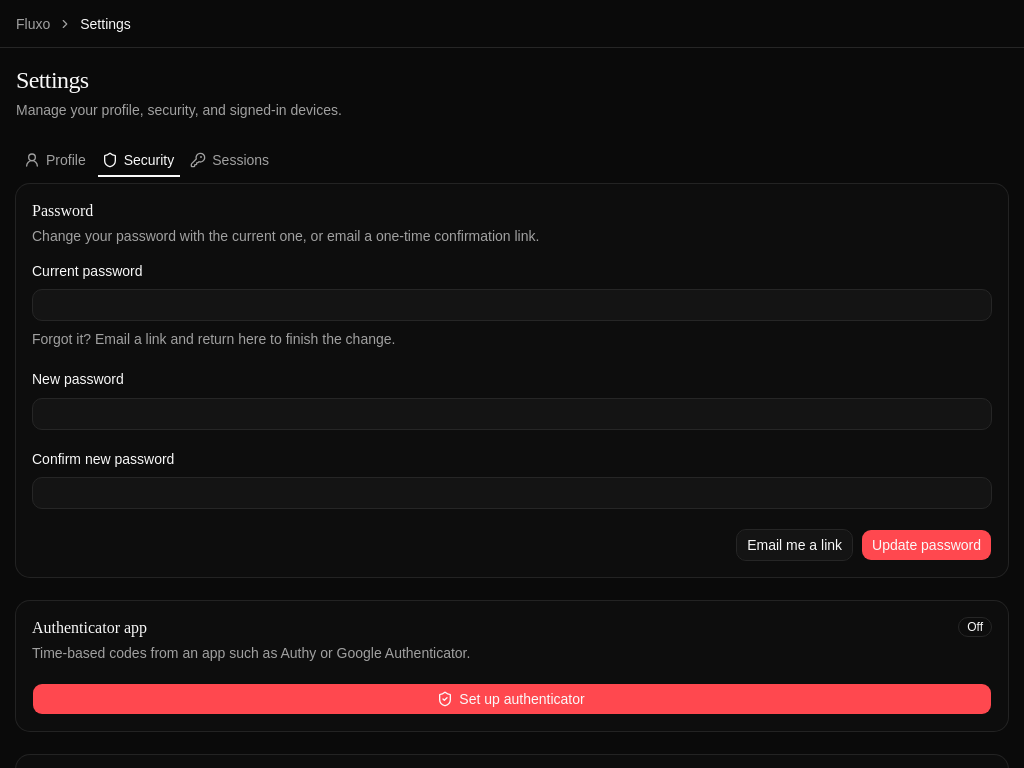
Settings page › shows MFA backup codes after enable
Step 1. Click the button "Set up authenticator" → (512, 699), box top-left (32, 683), bottom-right (992, 715)
(page scrolled)
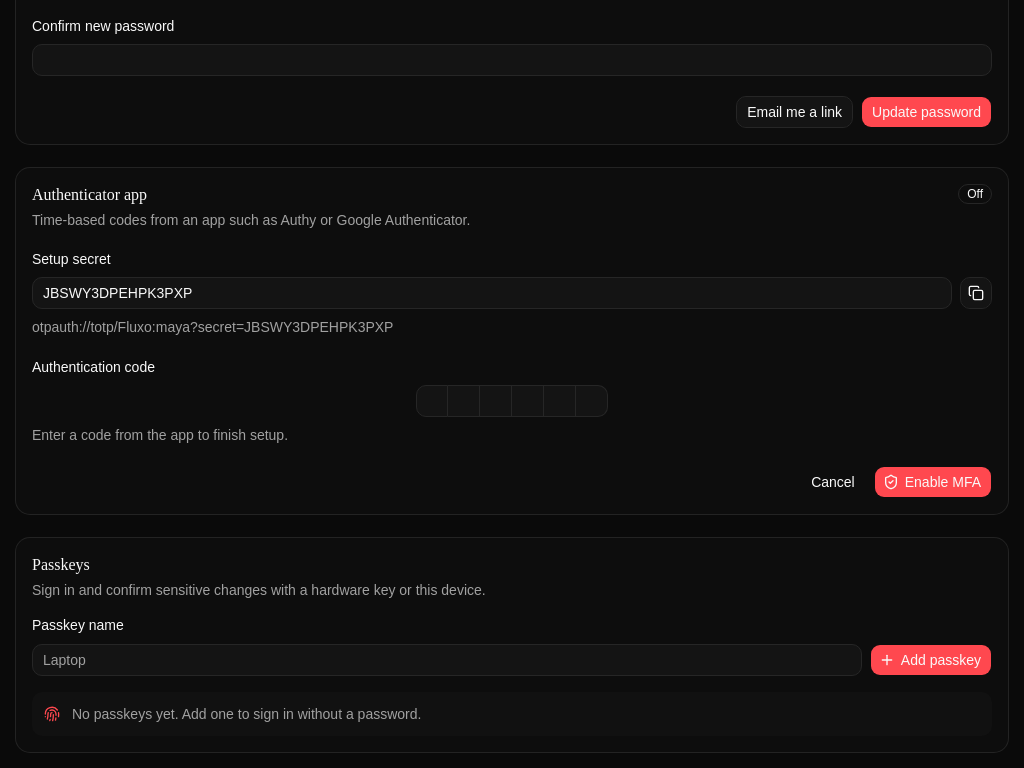
Expected: the field showing "JBSWY3DPEHPK3PXP" is shown, top-left (32, 277), bottom-right (952, 309)
Step 2. Type "123456" into the field labelled "Authentication code" → (512, 401), box top-left (416, 385), bottom-right (608, 417)
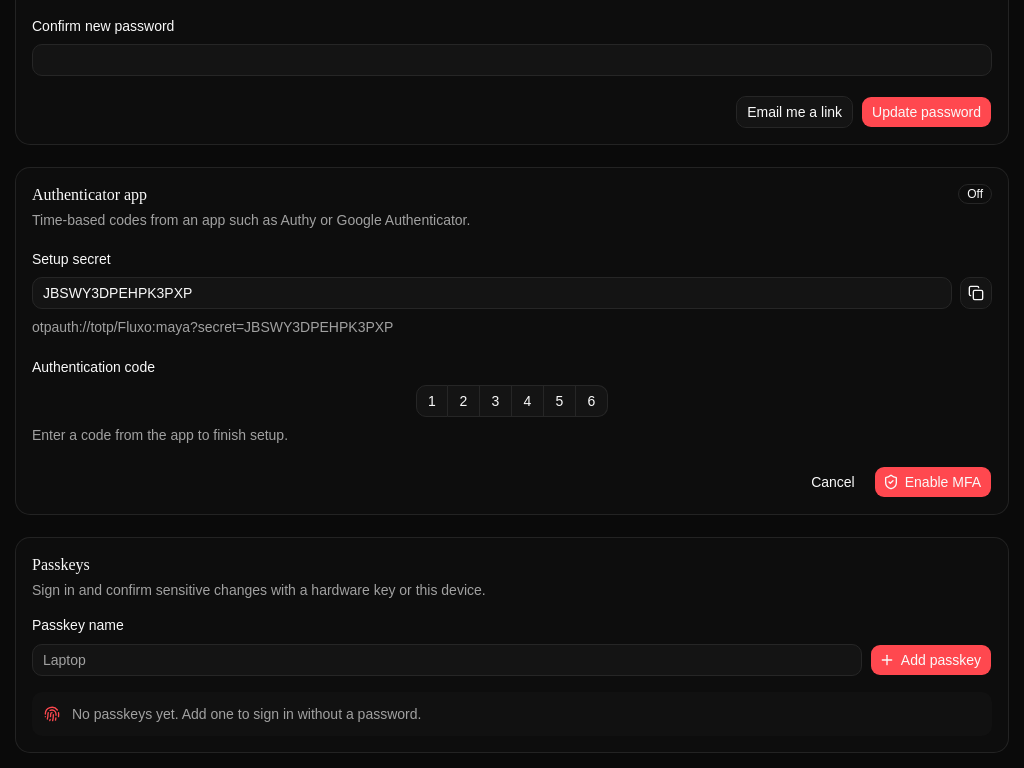
Step 3. Click the button "Enable MFA" → (933, 482), box top-left (874, 466), bottom-right (992, 498)
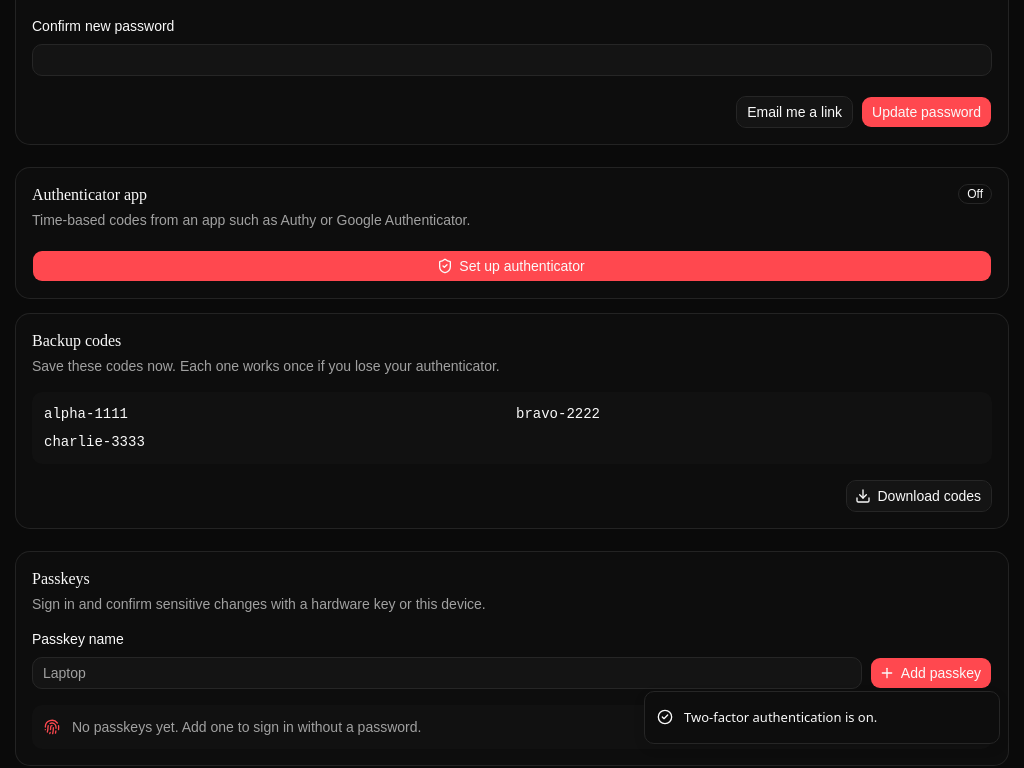
Expected: the text "Backup codes" is shown, top-left (32, 332), bottom-right (121, 349)
Expected: the list item "alpha-1111" is shown, top-left (44, 406), bottom-right (128, 422)
Expected: the list item "bravo-2222" is shown, top-left (516, 406), bottom-right (600, 422)
